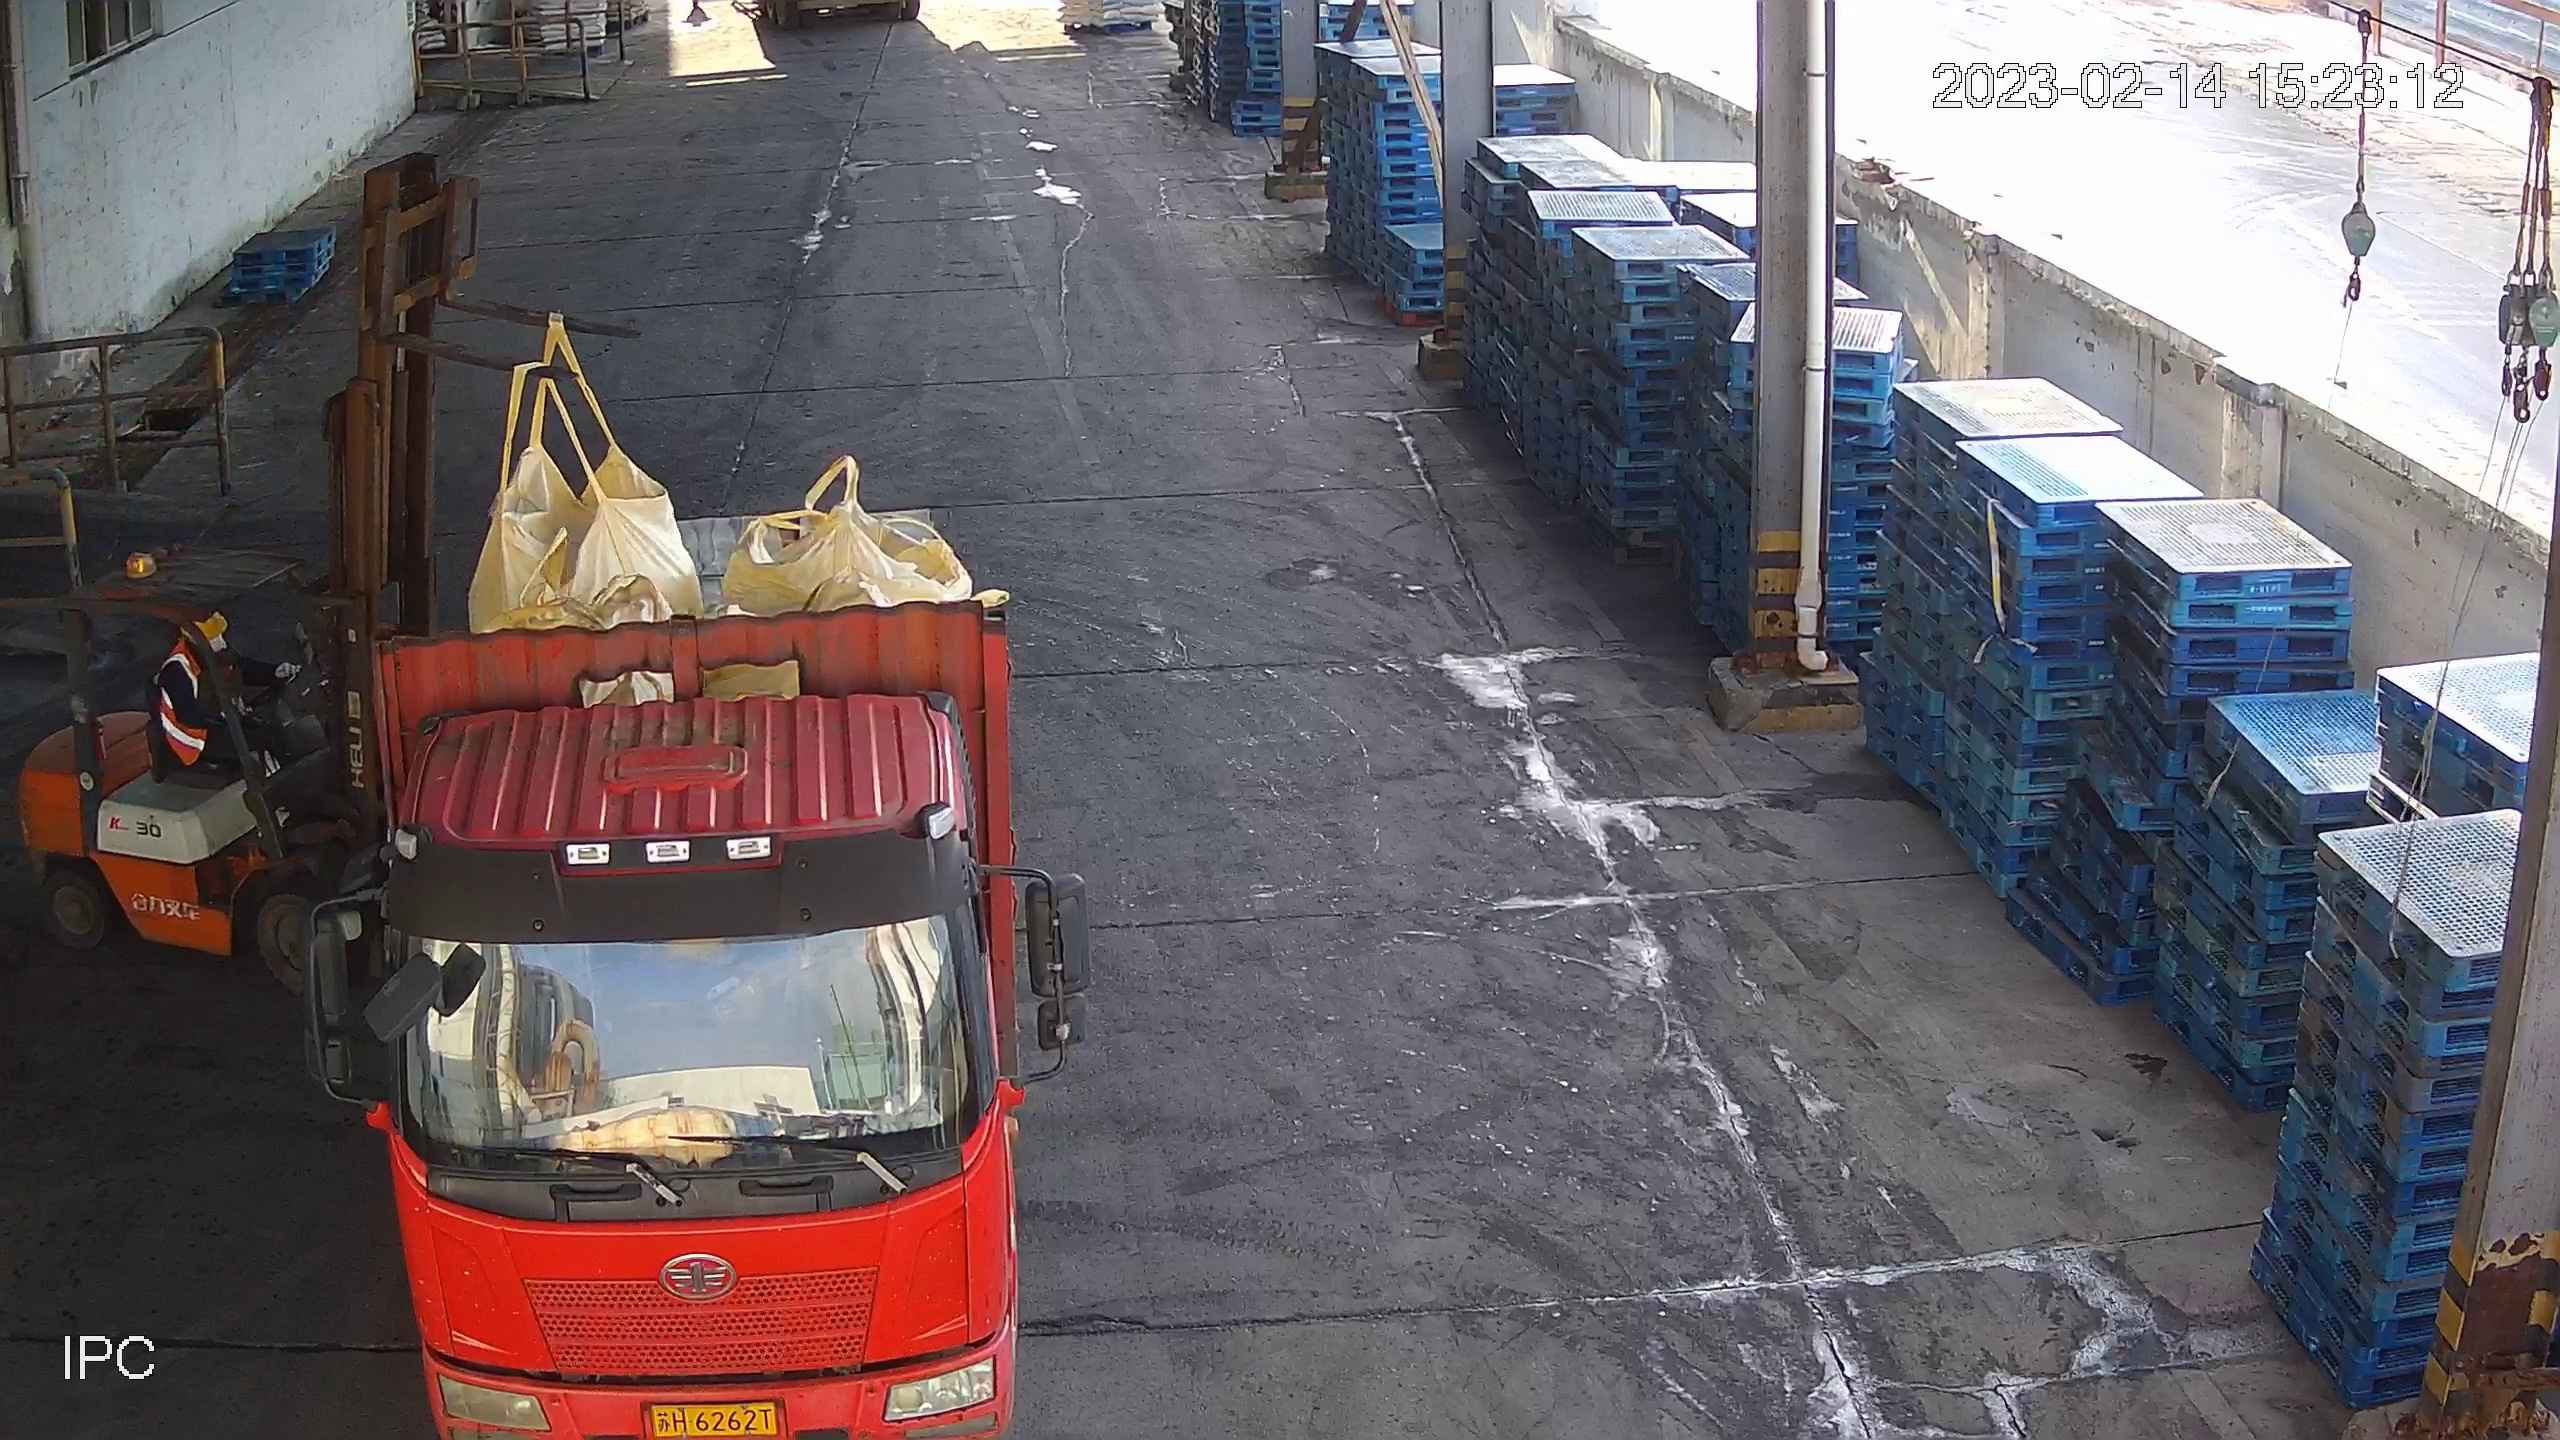helmet: (179, 611, 227, 641)
people: (156, 607, 297, 773)
truck: (298, 501, 1097, 1440)
